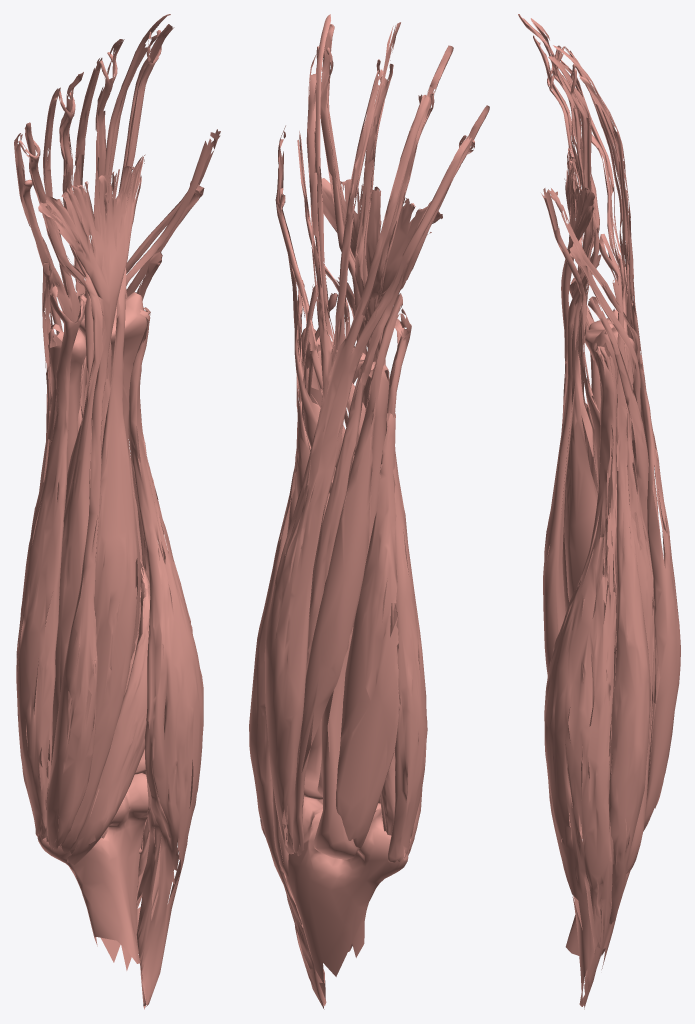
Rendered from antebrazo.glb.
3 views of the same model, side by side, from view 1: azimuth 30°, elevation 25°; view 2: azimuth 150°, elevation 25°; view 3: azimuth 270°, elevation 25° (orthographic). The views are drawn at different scales.
Parts seen in each view (by area): view 1: BR, PL, FCU, FCR, FDS, humerus, PT, ED, FDP, radius, ulna, FPL (+6 smaller); view 2: ED, FCU, ECU, humerus, FDP, ulna, ECRL, EDM, PL, FDS, EIP, EPL (+6 smaller); view 3: BR, ECRL, ED, FDS, FCR, ECRB, FDP, APL, PL, FPL, EPB, EIP (+6 smaller).
Boxes of the visible parts, bbox=[...] form: BR: bbox=[128, 306, 203, 1009]; PL: bbox=[38, 154, 145, 850]; FCU: bbox=[16, 284, 86, 838]; FCR: bbox=[61, 267, 138, 853]; FDS: bbox=[18, 30, 161, 849]; humerus: bbox=[37, 773, 159, 970]; PT: bbox=[67, 558, 150, 864]; ED: bbox=[14, 35, 157, 413]; FDP: bbox=[24, 24, 174, 513]; radius: bbox=[79, 292, 147, 774]; ulna: bbox=[48, 323, 86, 473]; FPL: bbox=[122, 139, 214, 456]; ED: bbox=[264, 54, 471, 854]; FCU: bbox=[336, 308, 427, 862]; ECU: bbox=[292, 293, 402, 855]; humerus: bbox=[286, 796, 408, 984]; FDP: bbox=[320, 22, 489, 361]; ulna: bbox=[313, 361, 389, 859]; ECRL: bbox=[249, 284, 317, 927]; EDM: bbox=[302, 201, 431, 808]; PL: bbox=[321, 178, 442, 855]; FDS: bbox=[316, 46, 474, 853]; EIP: bbox=[315, 14, 365, 455]; EPL: bbox=[275, 125, 354, 467]; BR: bbox=[544, 341, 617, 1009]; ECRL: bbox=[608, 274, 650, 924]; ED: bbox=[560, 46, 680, 831]; FDS: bbox=[547, 45, 598, 759]; FCR: bbox=[543, 275, 587, 763]; ECRB: bbox=[622, 263, 654, 873]; FDP: bbox=[518, 14, 599, 491]; APL: bbox=[588, 296, 648, 541]; PL: bbox=[561, 147, 594, 432]; FPL: bbox=[541, 188, 617, 585]; EPB: bbox=[569, 243, 641, 415]; EIP: bbox=[553, 45, 631, 337].
Bounding box in the file's own units: 106 × 502 × 76.44.
